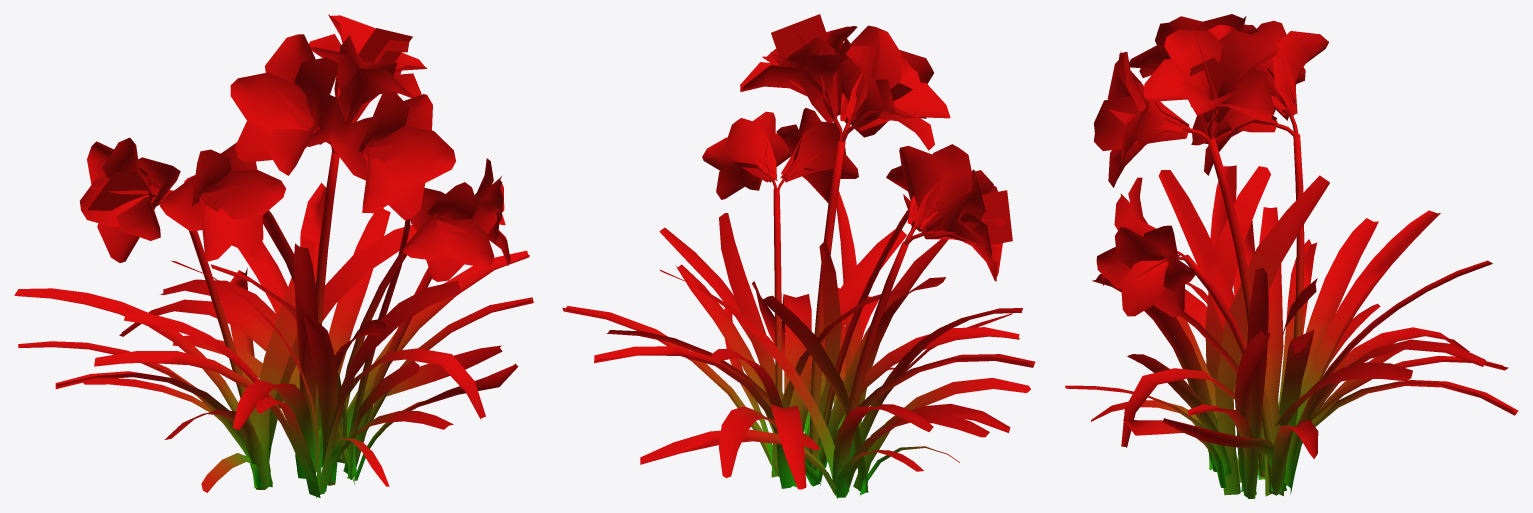
File: Var6_LOD0.fbx
The picture shows the model from 3 angles, left to right: view 1: azimuth 30°, elevation 25°; view 2: azimuth 150°, elevation 25°; view 3: azimuth 270°, elevation 25°; orthographic projection. The views are drawn at different scales.
Visible parts, largest first — view 1: _8301_Var6_LOD0; view 2: _8301_Var6_LOD0; view 3: _8301_Var6_LOD0.
Part boxes in pixels (x1,y1,x2,y2): _8301_Var6_LOD0: (14,14,533,498); _8301_Var6_LOD0: (562,14,1035,498); _8301_Var6_LOD0: (1065,14,1518,498).
Size of the model in its own units: 102 by 95.33 by 83.98.
